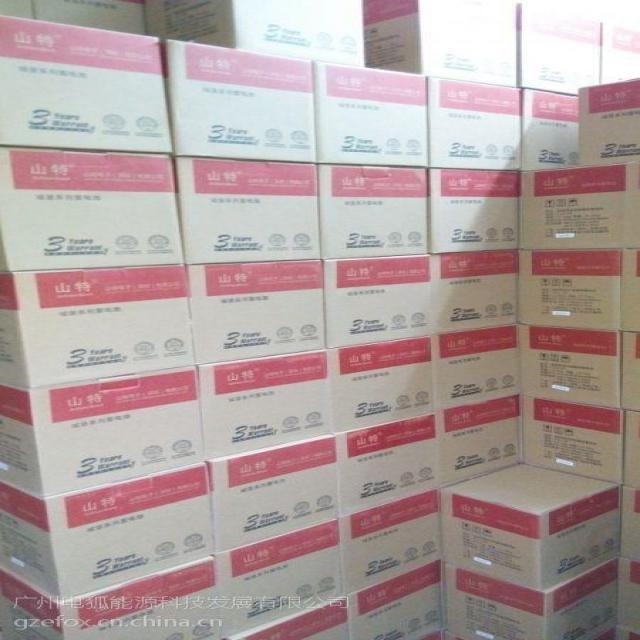box: (0, 460, 219, 602), (0, 264, 205, 396), (0, 370, 205, 500), (0, 148, 195, 276), (0, 18, 174, 160), (148, 32, 322, 164), (449, 460, 625, 587), (0, 552, 210, 640), (188, 343, 337, 466), (169, 148, 318, 265), (216, 509, 348, 640), (207, 429, 342, 552), (148, 0, 380, 70), (184, 248, 322, 364), (311, 58, 443, 174), (300, 156, 436, 263), (360, 0, 522, 86), (448, 560, 619, 640), (328, 410, 446, 516), (510, 383, 632, 485), (328, 332, 445, 436), (508, 315, 632, 413), (335, 484, 460, 579), (318, 250, 436, 350), (416, 70, 522, 174), (426, 392, 540, 487), (518, 163, 638, 253), (510, 244, 630, 332), (426, 322, 528, 424), (430, 162, 528, 260), (420, 248, 534, 332), (354, 561, 452, 640)
